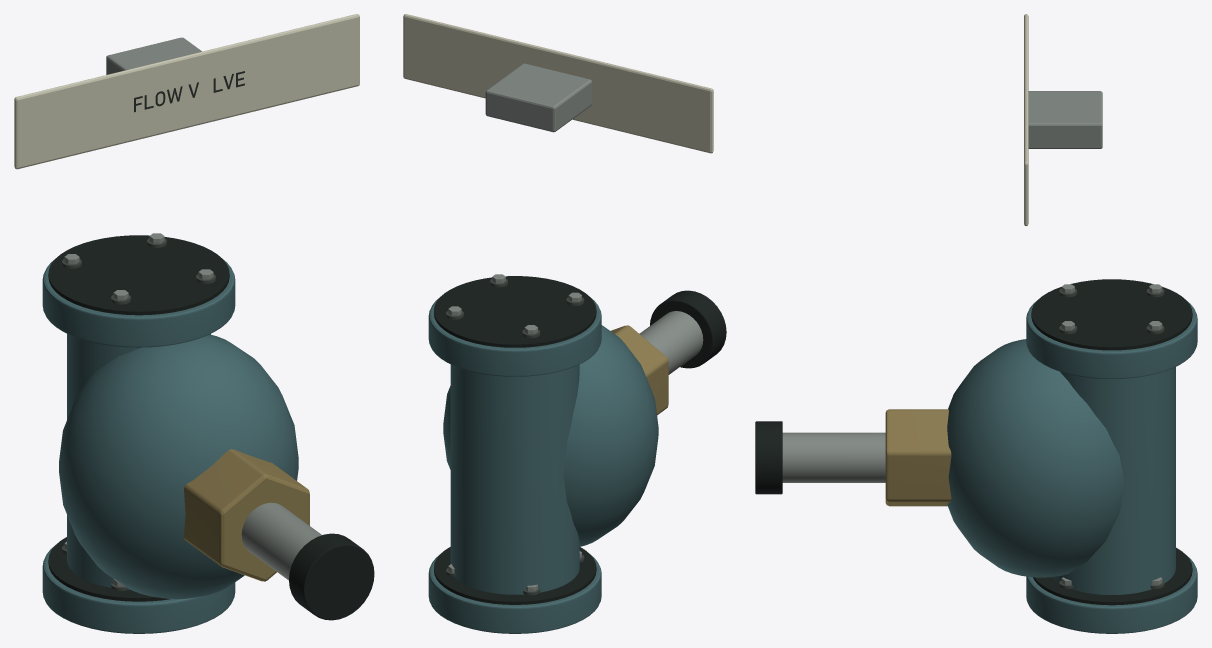
File: VALVE_Housing.fbx
3 views of the same model, side by side, from view 1: azimuth 30°, elevation 25°; view 2: azimuth 150°, elevation 25°; view 3: azimuth 270°, elevation 25° (orthographic). The views are drawn at different scales.
Visible parts, largest first — view 1: VALVE_Housing_EXPORT; view 2: VALVE_Housing_EXPORT; view 3: VALVE_Housing_EXPORT.
Boxes of the visible parts, bbox=[...] form: VALVE_Housing_EXPORT: bbox=[14, 14, 374, 633]; VALVE_Housing_EXPORT: bbox=[403, 14, 726, 633]; VALVE_Housing_EXPORT: bbox=[755, 14, 1197, 633].
Bounding box in the file's own units: 0.31 × 0.493 × 0.387.
